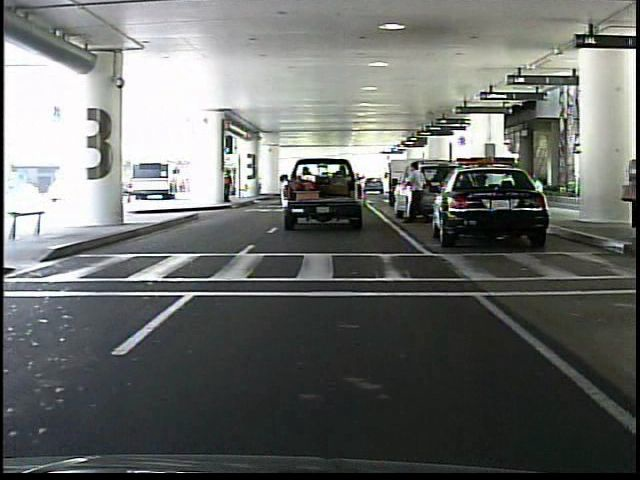person: (617, 146, 638, 240), (406, 158, 429, 226), (223, 162, 237, 204)
